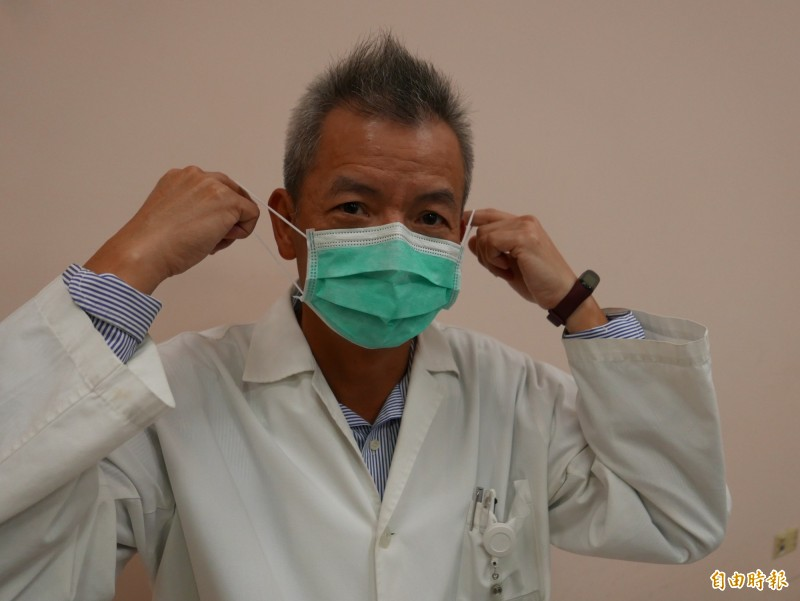Mask: (286, 107, 471, 344)
